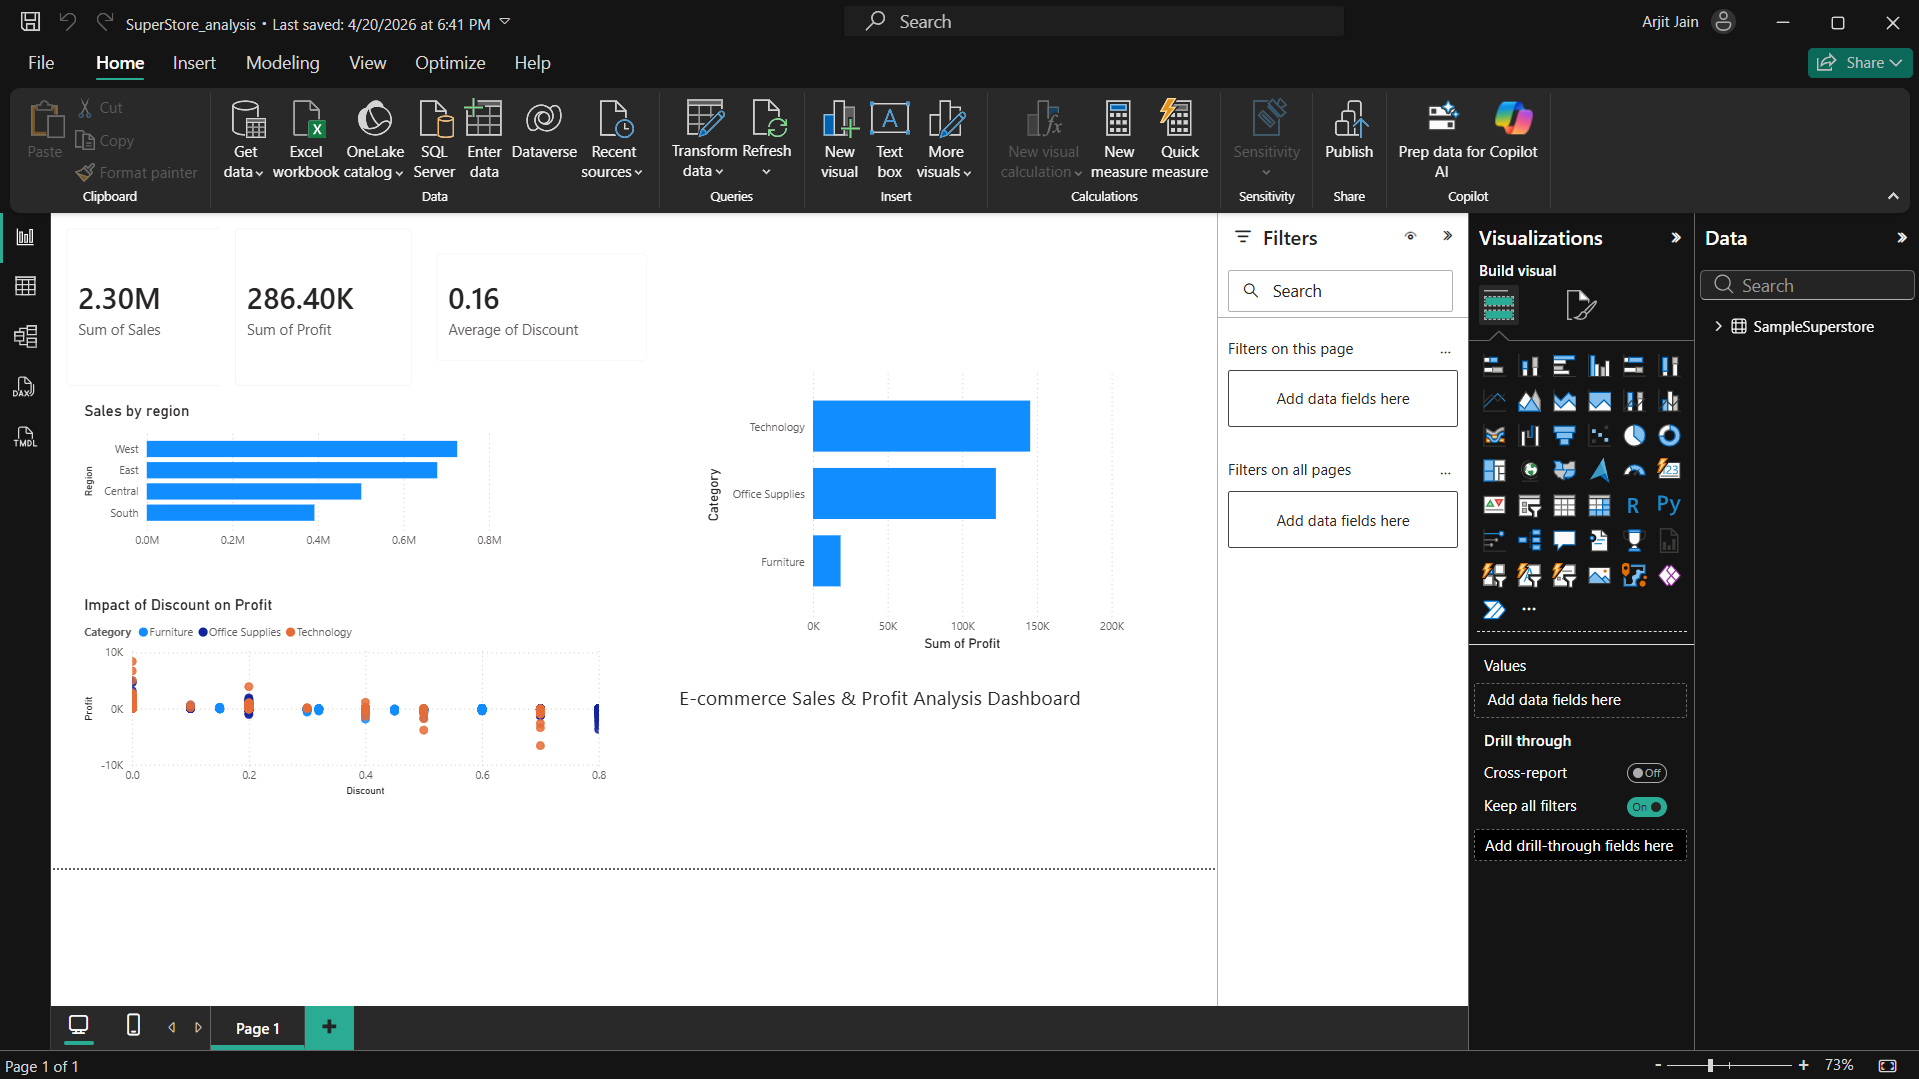

What the dashboard file says about the page in this screenshot:
{"tool":"powerbi","page":{"name":"Page 1","canvas":[1280,720],"ordinal":0},"visuals":[{"type":"clusteredBarChart","title":"Sales by region","fields":{"Category":["SampleSuperstore.Region"],"Y":["Sum(SampleSuperstore.Sales)"]},"box":[31.4,207.1,468.6,170],"z":0},{"type":"clusteredBarChart","title":"Profit by Category","fields":{"Y":["Sum(SampleSuperstore.Profit)"],"Category":["SampleSuperstore.Category"]},"box":[714.3,142.9,468.6,342.9],"z":1},{"type":"scatterChart","title":"Impact of Discount on Profit","fields":{"X":["SampleSuperstore.Discount"],"Y":["SampleSuperstore.Profit"],"Series":["SampleSuperstore.Category"]},"box":[31.4,420,582.9,225.7],"z":2},{"type":"cardVisual","fields":{"Data":["Sum(SampleSuperstore.Sales)"]},"box":[0,0,211.4,207.1],"z":3},{"type":"cardVisual","fields":{"Data":["Sum(SampleSuperstore.Profit)"]},"box":[185.7,0,228.6,207.1],"z":4},{"type":"cardVisual","fields":{"Data":["Avg(SampleSuperstore.Discount)"]},"box":[405.7,27.1,265.7,152.9],"z":5},{"type":"textbox","box":[684,19,469,150],"z":6},{"type":"textbox","box":[684.3,511.4,468.6,60],"z":7}]}

Visuals, with their boxes on the page's 1280x720 design canvas (x1, y1, x2, y2). These are canvas units, not pixel positions in the 1919x1079 screenshot, which may show the page scaled, cropped or inside an application window:
"Sales by region" clusteredBarChart: locate(31, 207, 500, 377)
"Profit by Category" clusteredBarChart: locate(714, 143, 1183, 486)
"Impact of Discount on Profit" scatterChart: locate(31, 420, 614, 646)
cardVisual - Sum(SampleSuperstore.Sales): locate(0, 0, 211, 207)
cardVisual - Sum(SampleSuperstore.Profit): locate(186, 0, 414, 207)
cardVisual - Avg(SampleSuperstore.Discount): locate(406, 27, 671, 180)
textbox: locate(684, 19, 1153, 169)
textbox: locate(684, 511, 1153, 571)
